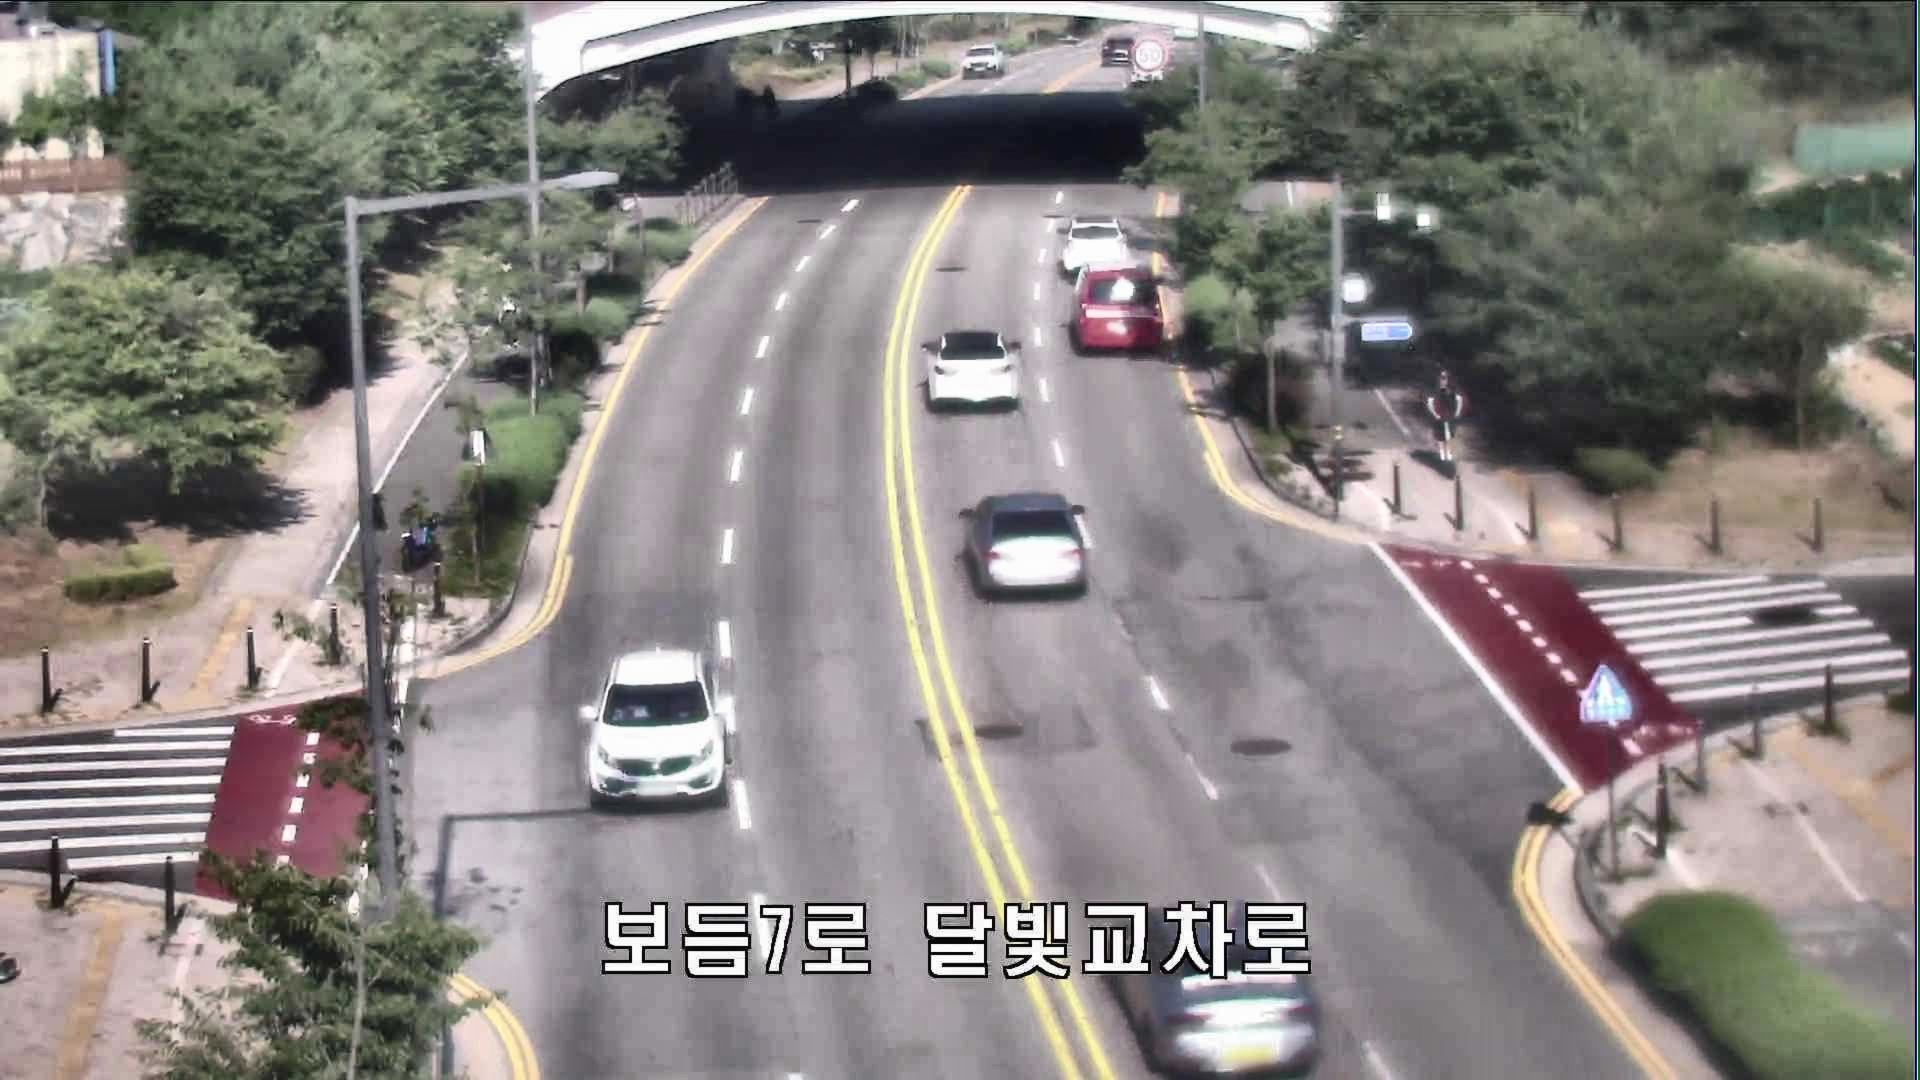sidewalk: (1420, 367, 1472, 469)
